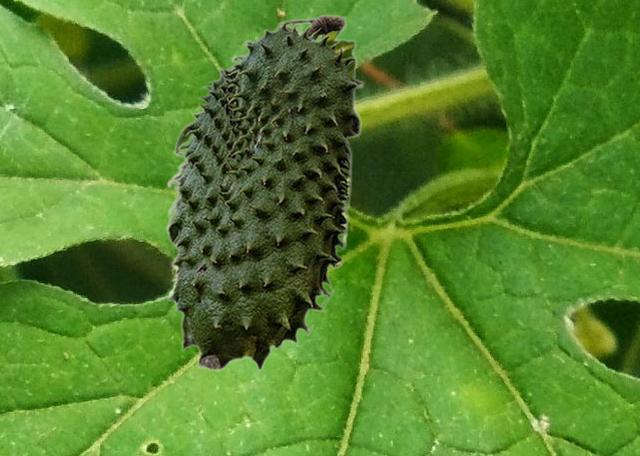guyabano: (164, 13, 363, 371)
